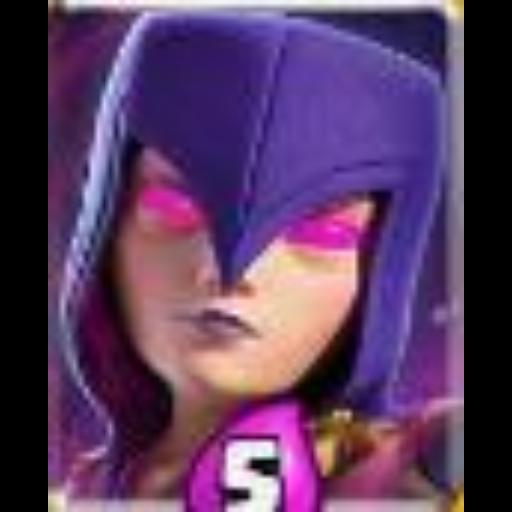witch: (48, 0, 464, 512)
